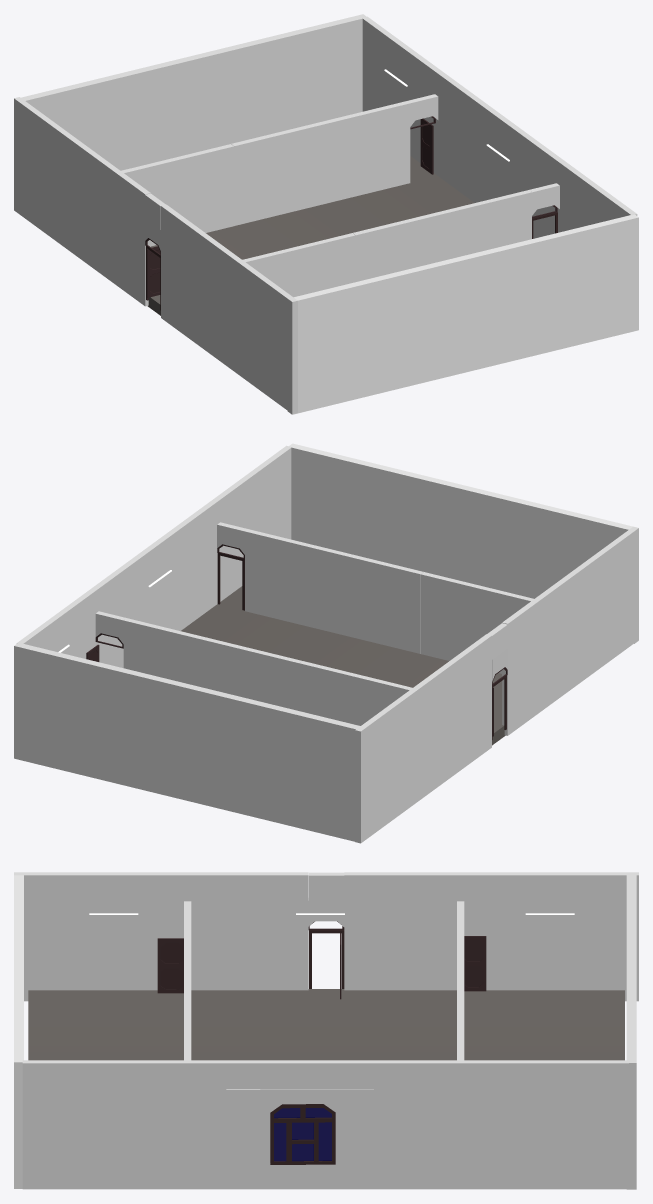
The model's file is Templat1.glb.
3 renders of one model, top to bottom at view 1: azimuth 30°, elevation 25°; view 2: azimuth 150°, elevation 25°; view 3: azimuth 270°, elevation 25°, orthographic. The views are drawn at different scales.
Parts seen in each view (by area): view 1: Cube14_7, Cube14_7.002, Cube3_4.001, Cube3_4.005, Cube3_4.008, Cube_40.002, Cube25_31.005, Cube26_32.001, Cube25_31.009, Cube25_31.008, Cube25_31.007, Cube26_32.002 (+4 smaller); view 2: Cube14_7.002, Cube14_7, Cube3_4.001, Cube3_4.008, Cube3_4.005, Cube_40.002, Cube25_31.008, Cube26_32.002, Cube25_31.007, Cube25_31.005, Cube25_31.009, Cube26_32.001 (+2 smaller); view 3: Cube3_4.001, Cube_40.002, Cube3_4.008, Cube3_4.005, Cube.004_148.001, Cube14_7.002, Cube14_7, Cube.028_184, Cube.024_180, Cube3_4.009, Cube18.007_164.002, SM_DoorFrame5.003_186.002 (+2 smaller).
Part boxes in pixels (x1,y1,x2,y2): Cube14_7: (287, 214, 638, 414); Cube14_7.002: (21, 14, 365, 170); Cube3_4.001: (362, 16, 637, 238); Cube3_4.005: (161, 204, 297, 413); Cube3_4.008: (14, 97, 150, 306); Cube_40.002: (147, 156, 474, 315); Cube25_31.005: (231, 120, 332, 225); Cube26_32.001: (328, 101, 410, 201); Cube25_31.009: (126, 144, 234, 246); Cube25_31.008: (353, 209, 454, 281); Cube25_31.007: (248, 233, 355, 297); Cube26_32.002: (450, 190, 531, 257); Cube14_7.002: (14, 643, 360, 841); Cube14_7: (289, 443, 638, 643); Cube3_4.001: (16, 445, 291, 667); Cube3_4.008: (355, 634, 491, 843); Cube3_4.005: (502, 526, 638, 735); Cube_40.002: (181, 586, 505, 745); Cube25_31.008: (323, 548, 423, 653); Cube26_32.002: (245, 529, 326, 630); Cube25_31.007: (421, 572, 528, 673); Cube25_31.005: (202, 637, 301, 710); Cube25_31.009: (299, 661, 406, 725); Cube26_32.001: (123, 618, 204, 687); Cube3_4.001: (22, 1060, 628, 1189); Cube_40.002: (28, 989, 624, 1060); Cube3_4.008: (344, 872, 638, 1001); Cube3_4.005: (14, 872, 308, 1001); Cube.004_148.001: (226, 1089, 385, 1180); Cube14_7.002: (626, 875, 636, 1189); Cube14_7: (14, 875, 23, 1188); Cube.028_184: (157, 938, 183, 993); Cube.024_180: (464, 936, 486, 991); Cube3_4.009: (309, 872, 344, 902); Cube18.007_164.002: (308, 898, 344, 926); SM_DoorFrame5.003_186.002: (309, 930, 344, 988).
Bounding box in the file's own units: 15.54 × 4.78 × 21.26.
Materials: 32 (10 with a texture image).
